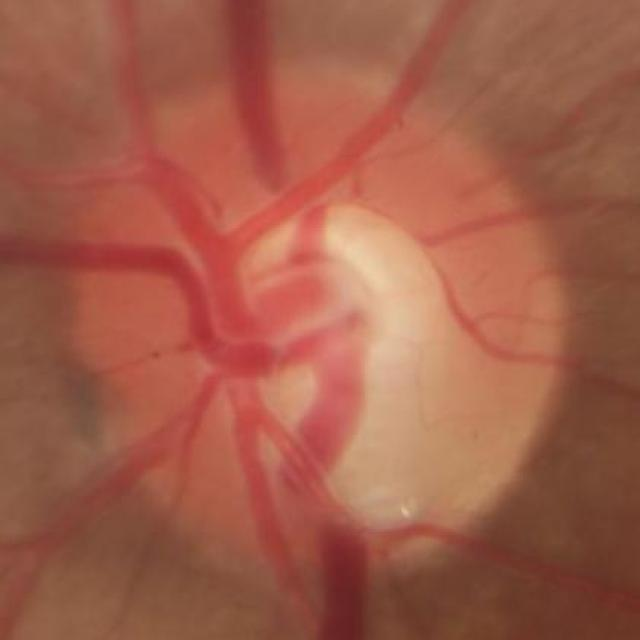OC: (238, 205, 443, 398)
OD: (71, 68, 564, 568)
